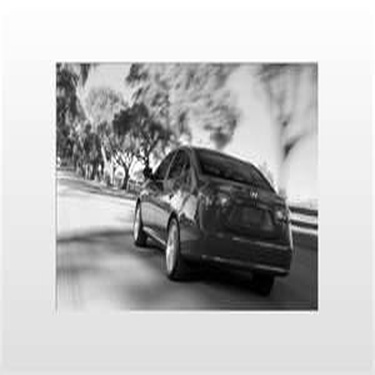car: (125, 145, 296, 294)
